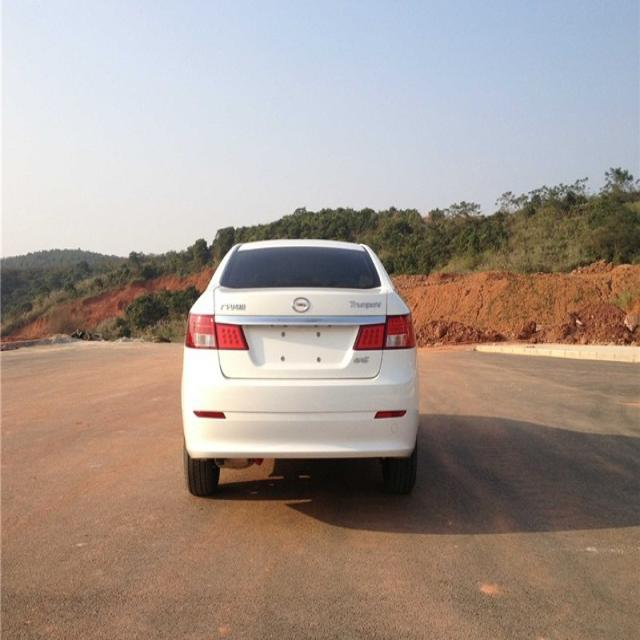back_glass: (218, 244, 384, 293)
back_left_side_light: (184, 310, 250, 354)
back_right_side_light: (351, 310, 417, 354)
rear_bumper: (182, 342, 420, 461)
